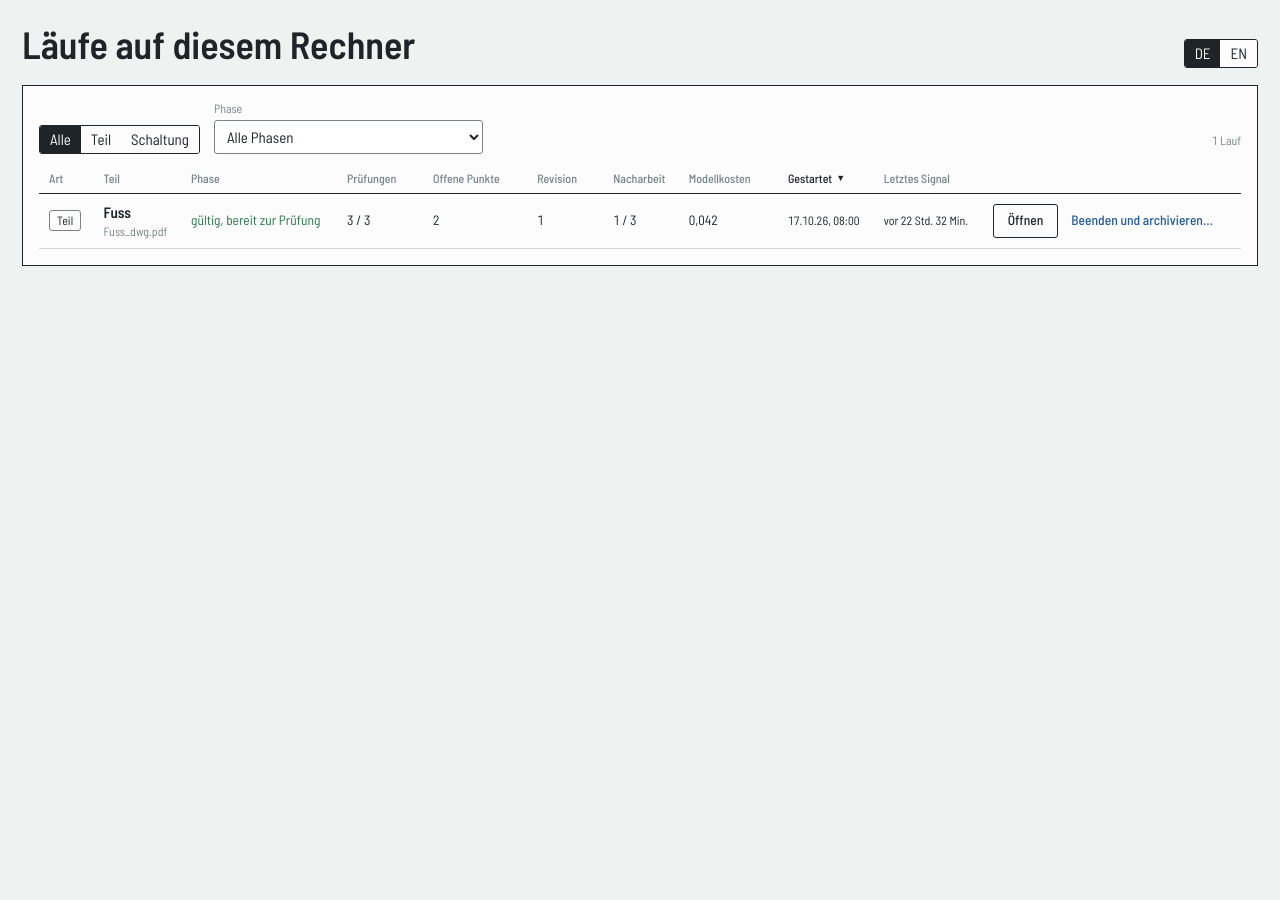
Test: RunTable on the host: finish and shelve (#52) › speaks German
Step 1. Click the button with aria-label "ses-fixture0001 beenden und archivieren" → (1142, 221), box [1064,207,1220,235]
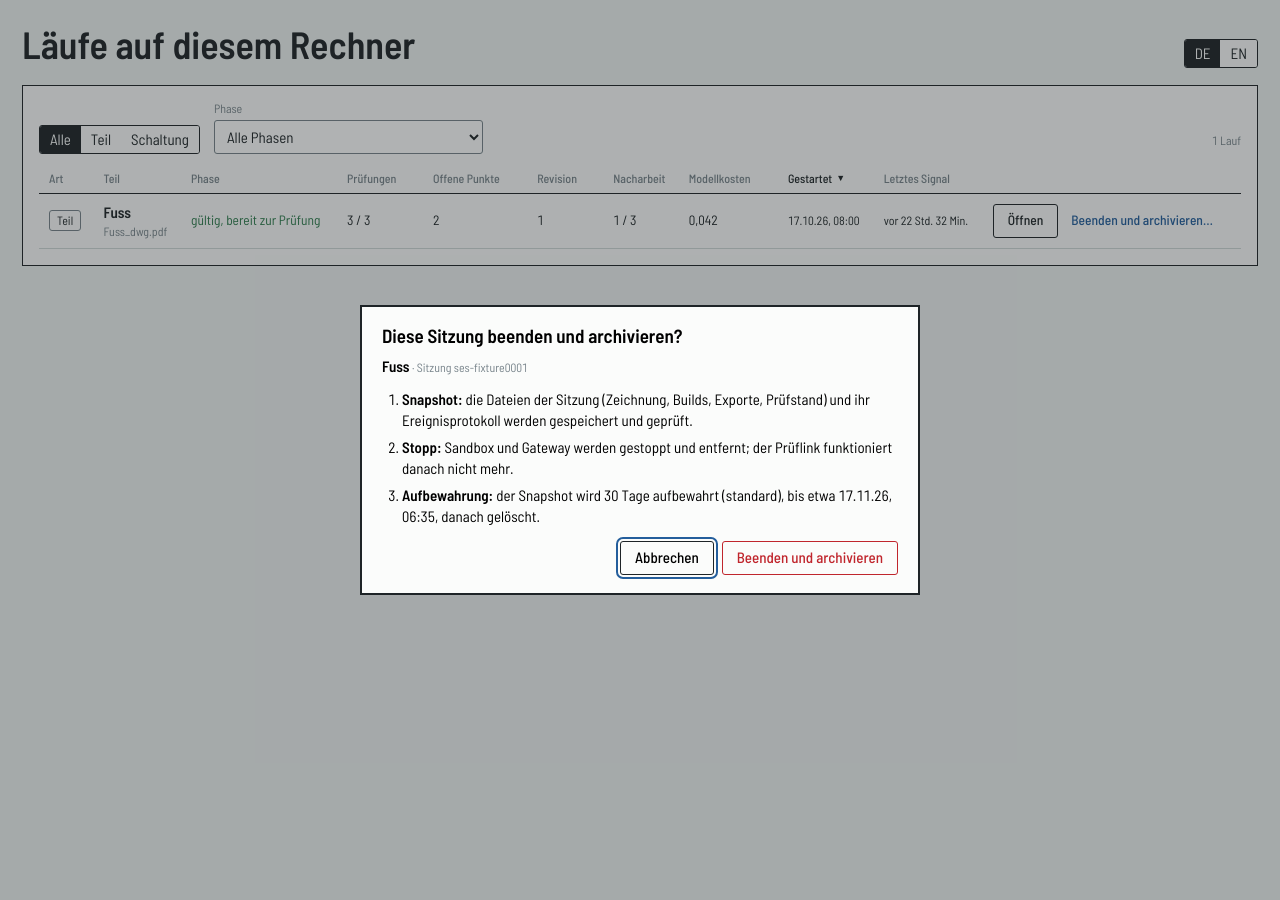
Now the list item "30 Tage aufbewahrt (standard)" is shown, box [402,486,892,525]
Now the button "Beenden und archivieren" is shown, box [722,541,898,575]
